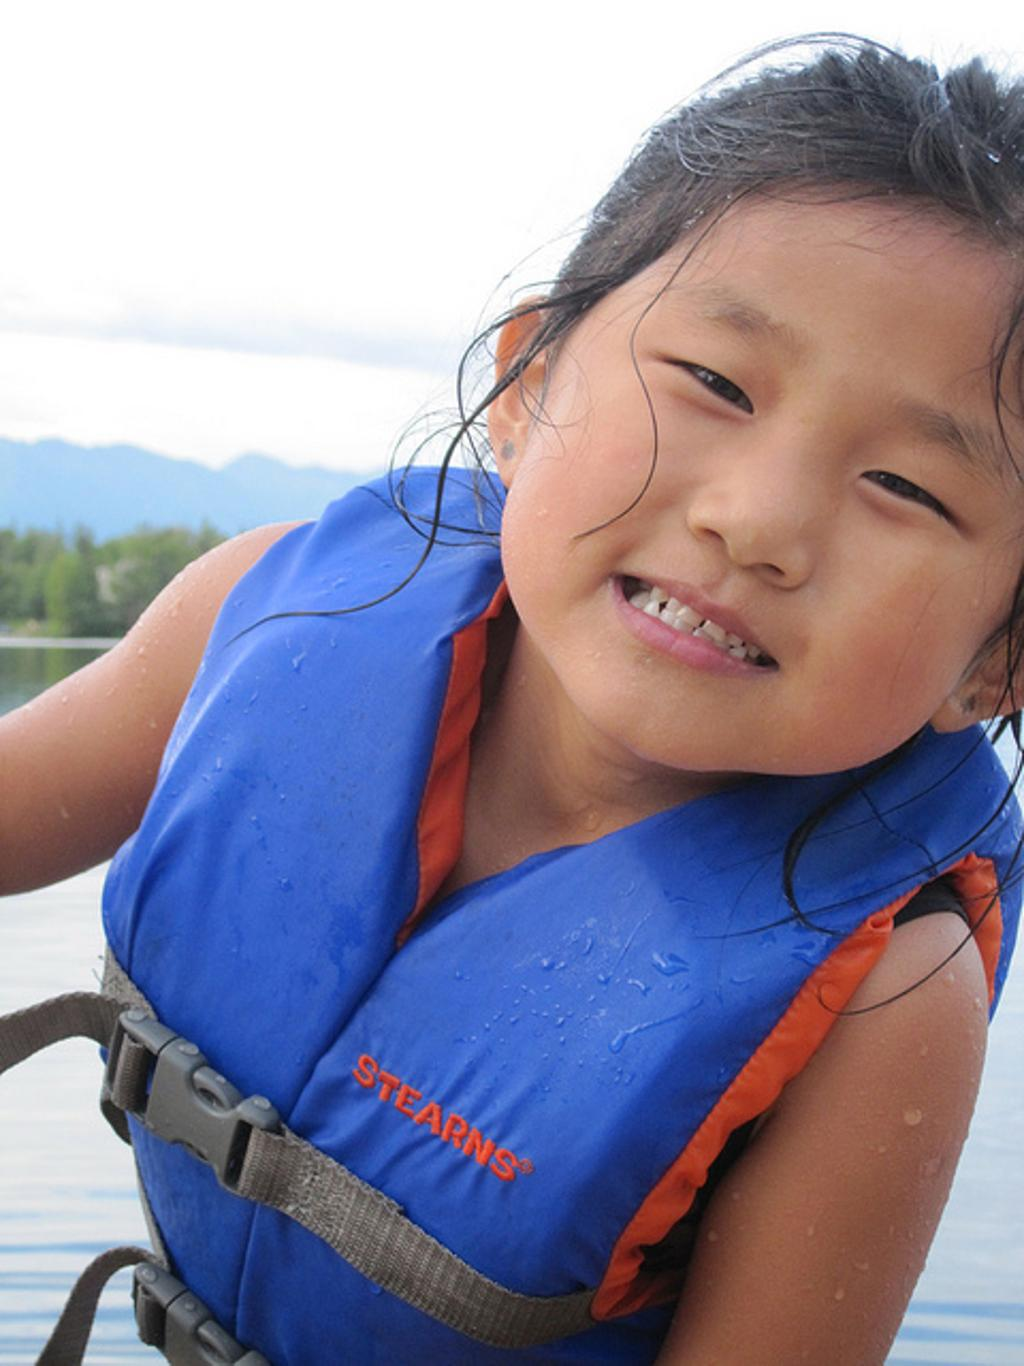face: (521, 206, 996, 777)
